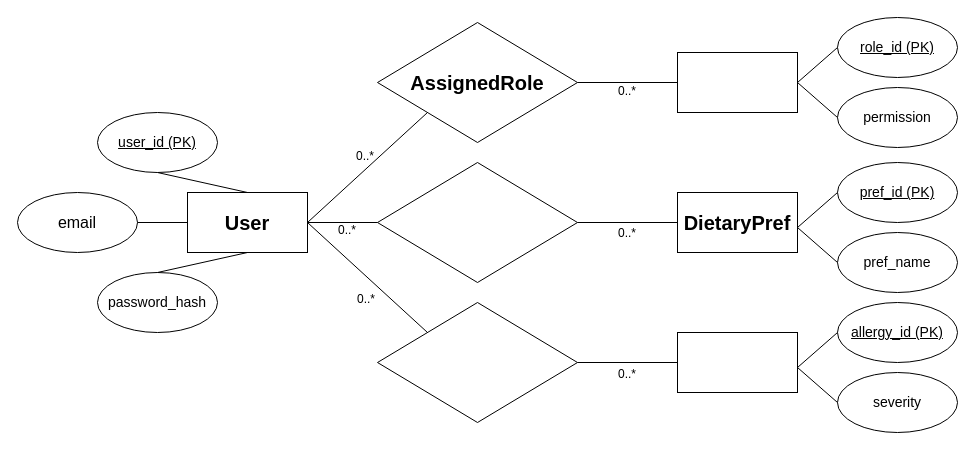
Some shapes in this 975 by 450 pixel diagram are drawn without their labels. The centre of each missing label's shape, as x and y in pixels:
"Allergy" belongs at (x=737, y=362).
"HasAllergy" belongs at (x=477, y=362).
"HasPref" belongs at (x=477, y=222).
"Role" belongs at (x=737, y=82).
